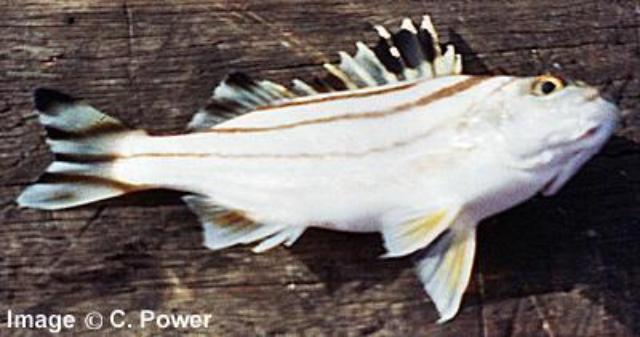Mulut: (590, 80, 628, 128)
Sirip Anal: (178, 187, 304, 260)
Sirip Ekor: (11, 69, 127, 221)
Sirip Perut: (370, 192, 484, 320)
Sirip Punggung: (182, 10, 464, 134)
